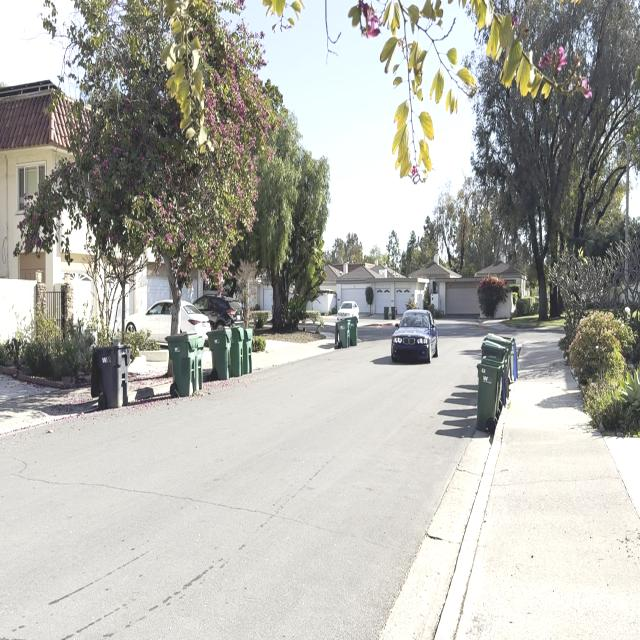Carbeetle: (388, 296, 442, 372)
